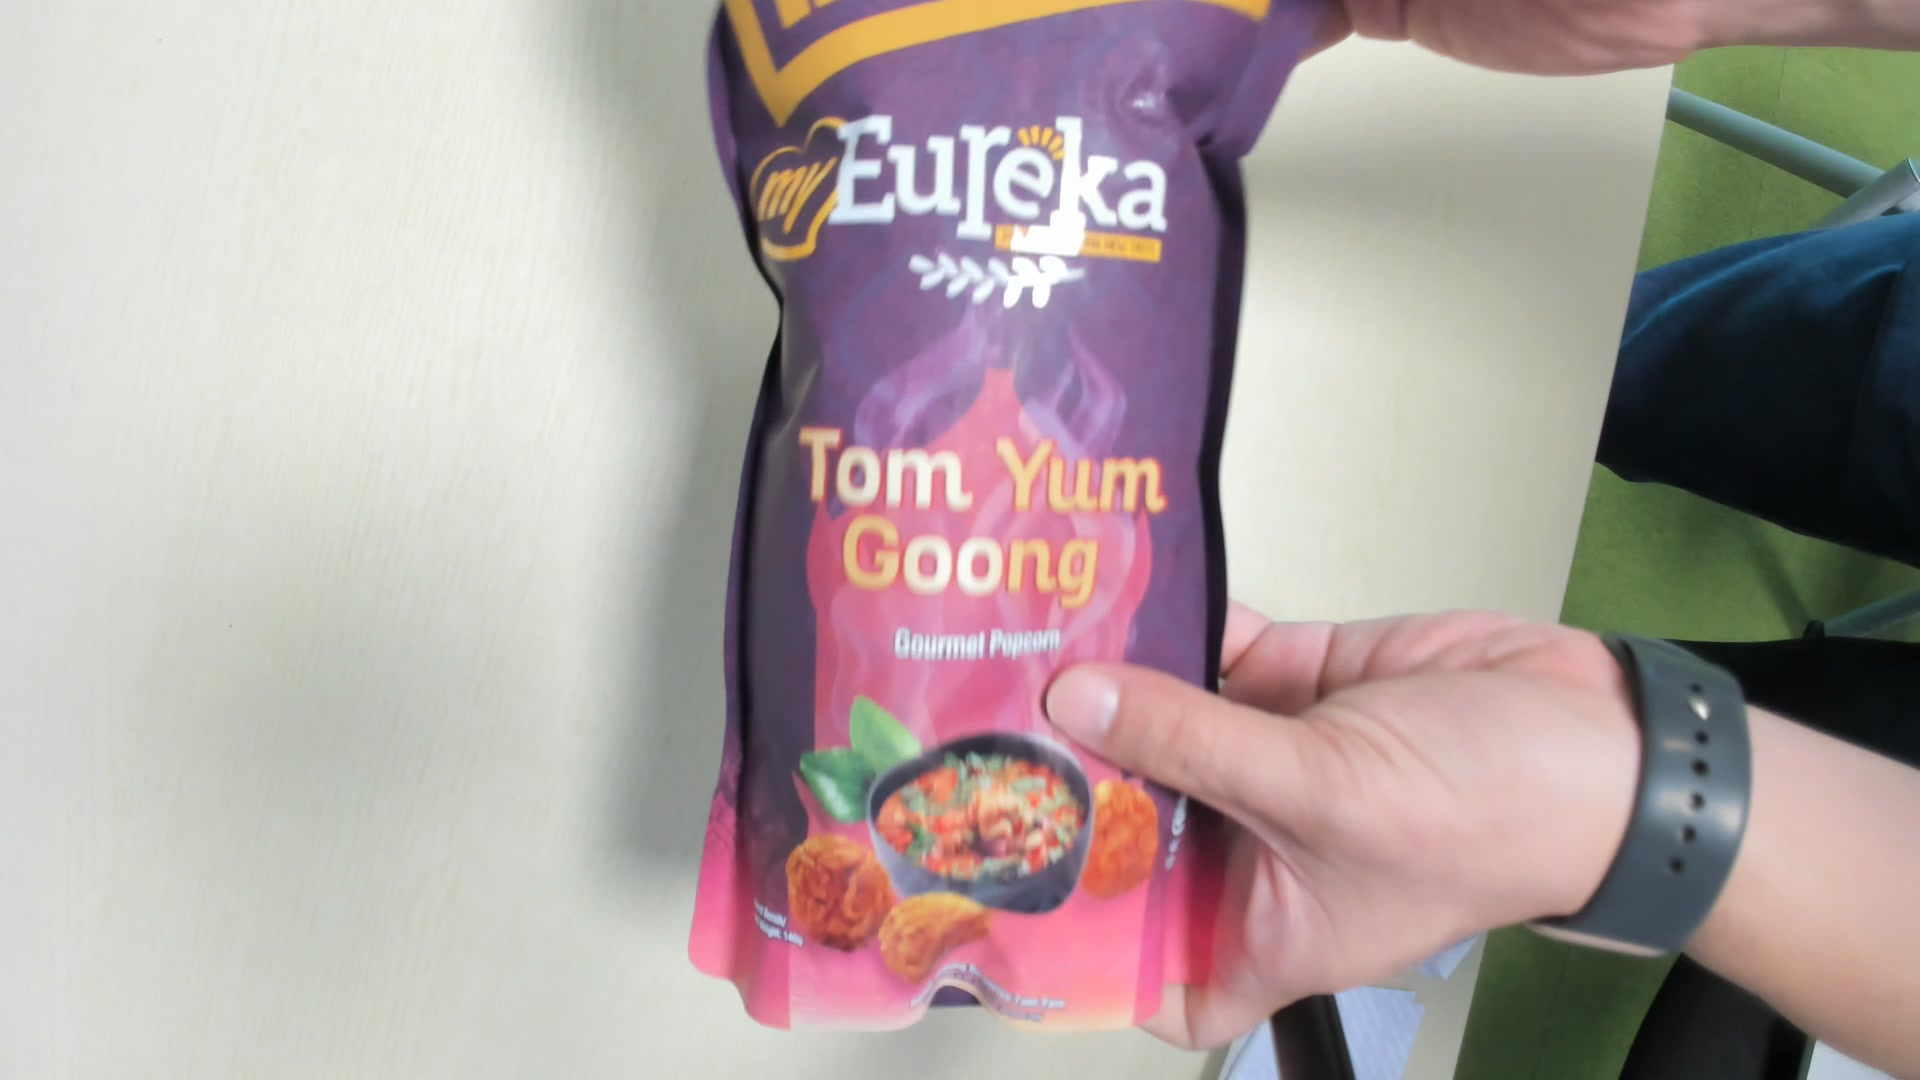PotatoChipsKeropok_100-199g_Halal_NonHealthy: (688, 5, 1261, 1055)
